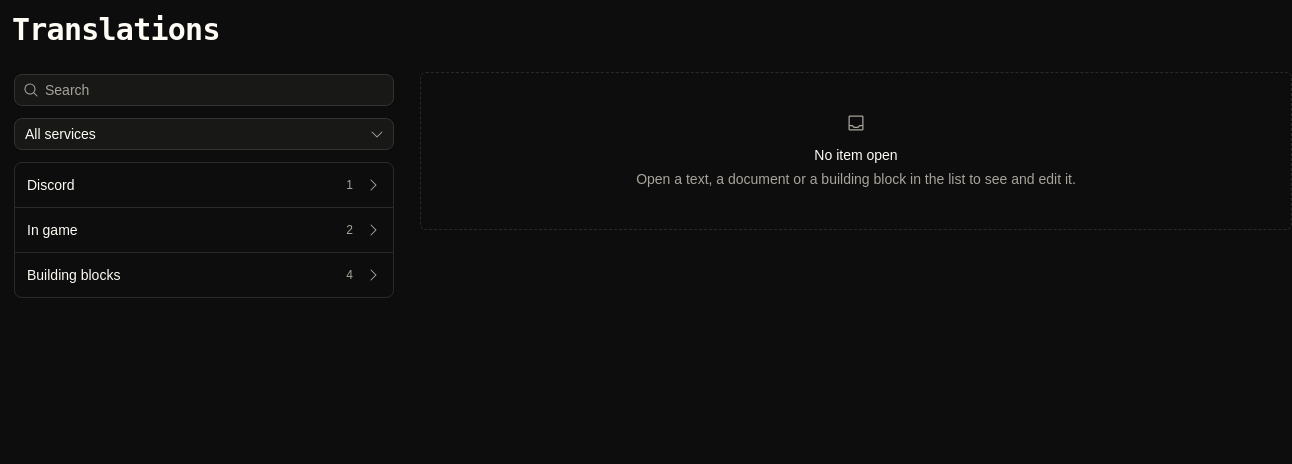
a shared part › is a hit of the search, and opens from there
This screenshot has width=1292, height=464.
In the search field named "Search the texts": (216, 90) [39, 75, 393, 105], type "rules"
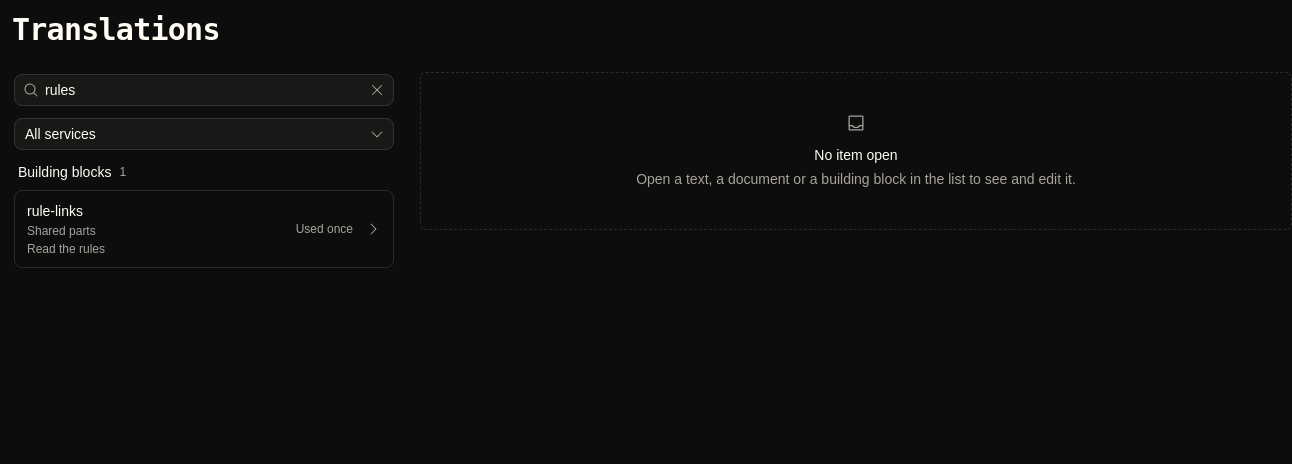
Click the button "rule-links": (55, 211) [15, 191, 393, 267]
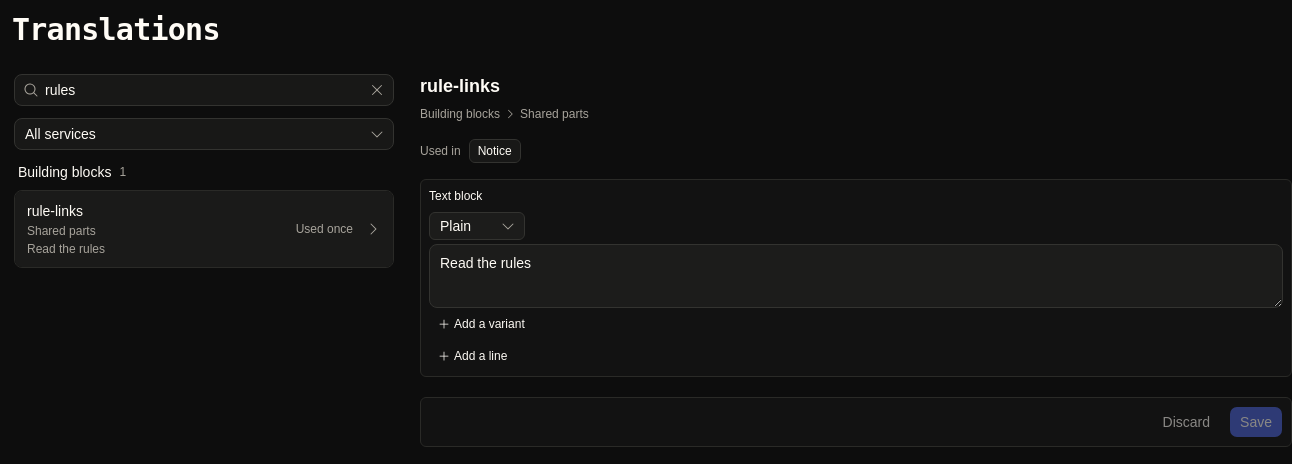
Expected: the element "rule-links" is shown, [420, 72, 1291, 447]
